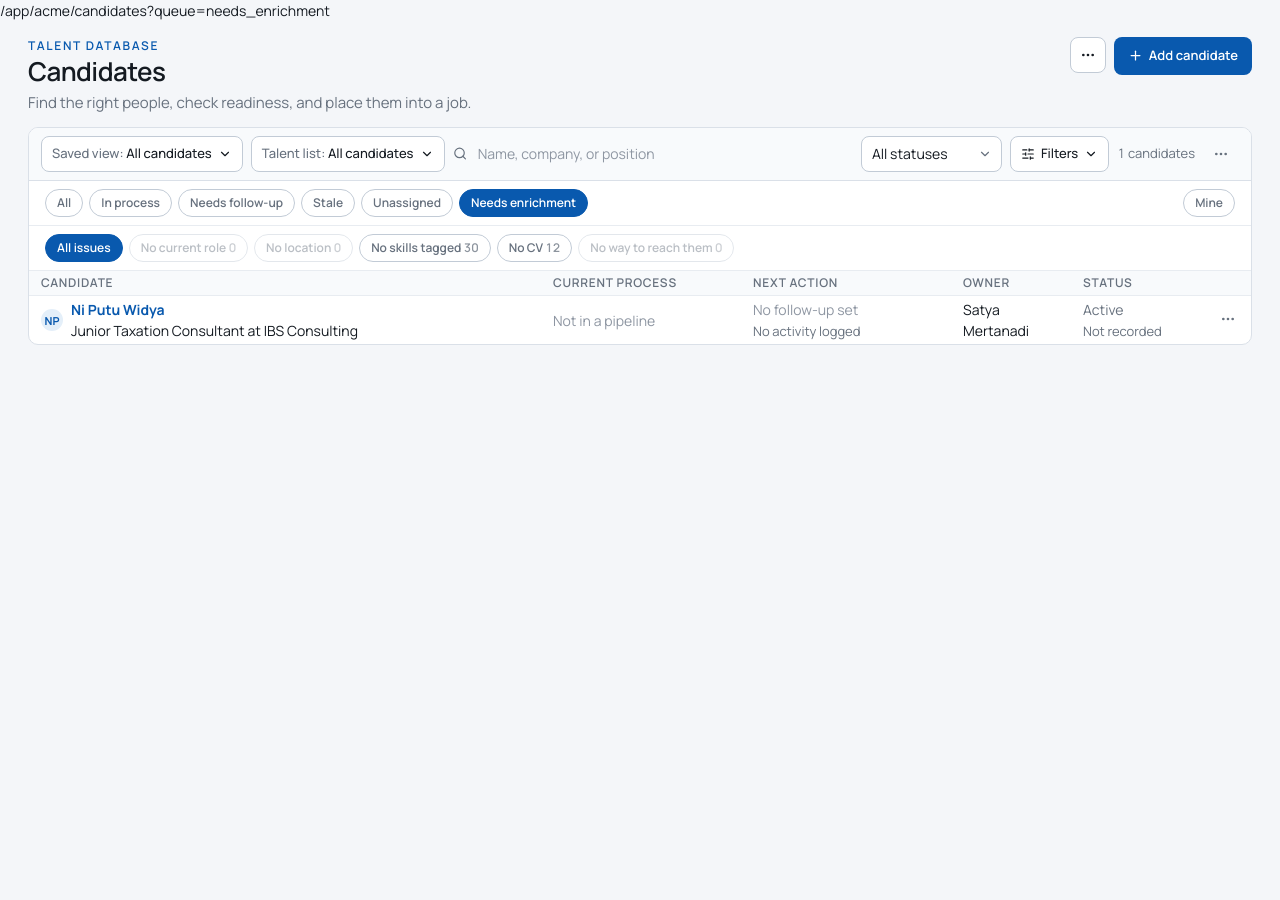
CandidatesPage data quality › names each gap in Quick View and links to where it is fixed
What coordinates should you click on to do the following:
click the cell "Not in a pipeline"
I would click on:
 (641, 320)
Its box is 541,296 -> 741,344.
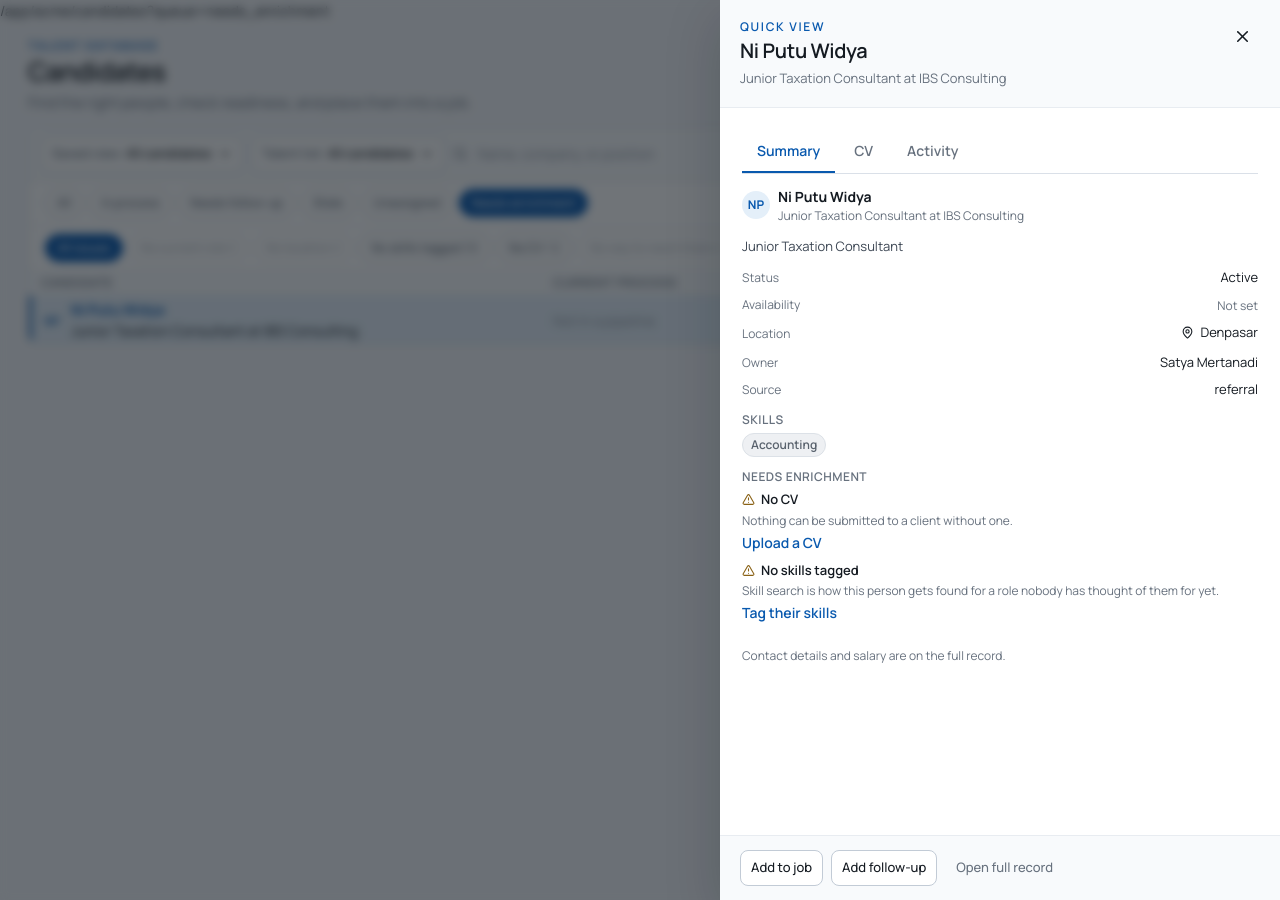
Result: the dialog shows "No CV" at 761,490 -> 798,508
Result: the dialog shows "No skills tagged" at 761,561 -> 859,579
